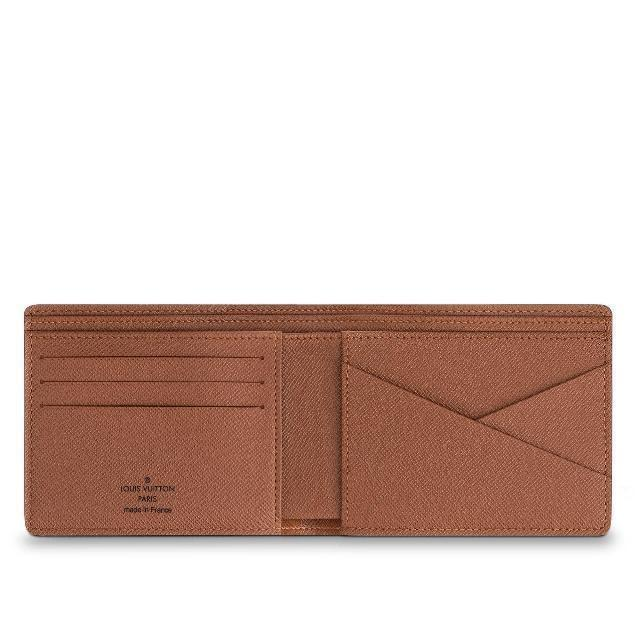Wallet: (16, 297, 614, 543)
